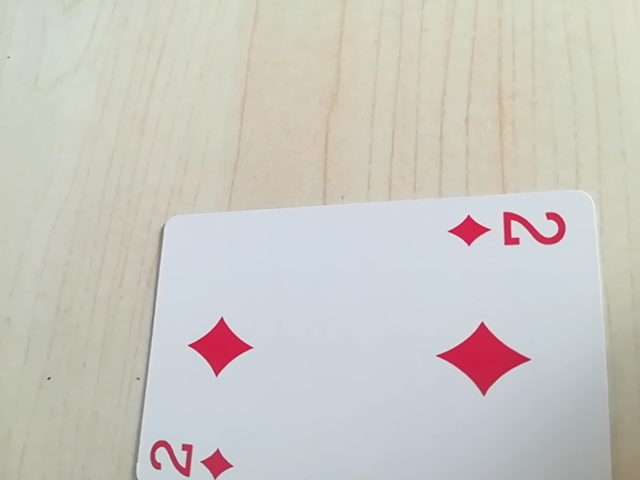fk 2: (445, 203, 573, 257), (145, 431, 241, 480)
